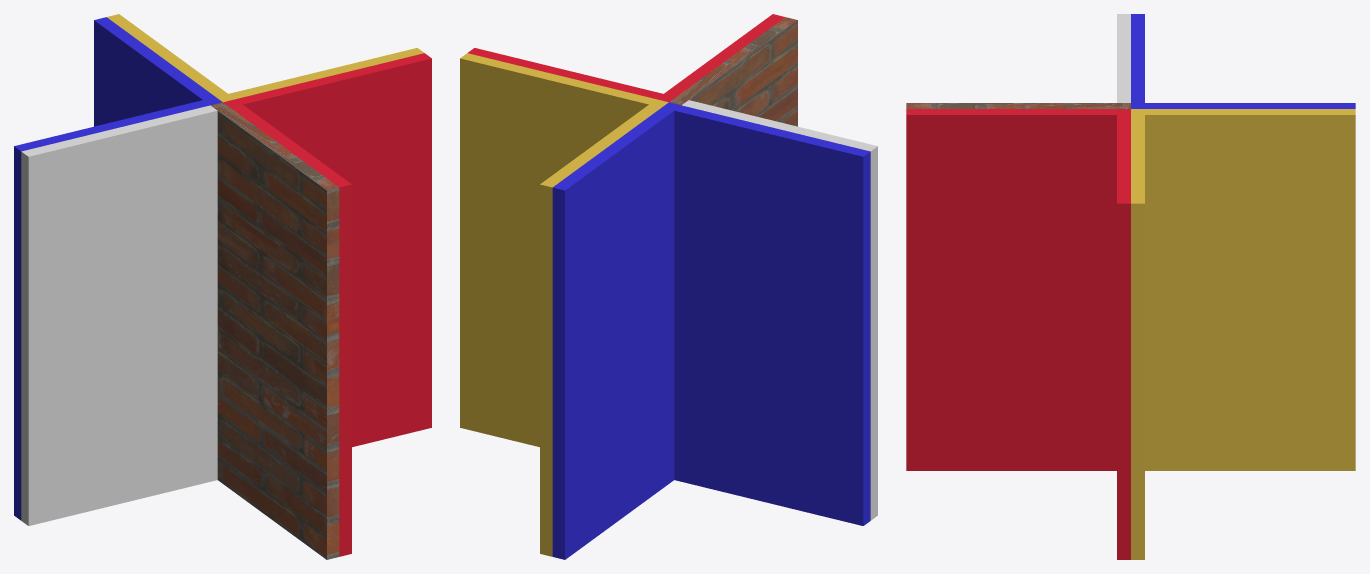
The model's file is +_wall_complete.fbx.
The picture shows the model from 3 angles, left to right: view 1: azimuth 30°, elevation 25°; view 2: azimuth 150°, elevation 25°; view 3: azimuth 270°, elevation 25°; orthographic projection. The views are drawn at different scales.
Parts seen in each view (by area): view 1: + Wall; view 2: + Wall; view 3: + Wall.
Boxes of the visible parts, x1,y1,x2,y2 form: + Wall: [14, 14, 431, 559]; + Wall: [460, 14, 877, 559]; + Wall: [906, 14, 1355, 559].
Bounding box in the file's own units: 800 × 700 × 800.
